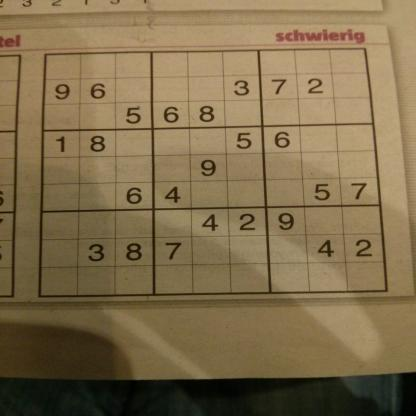sudoku: (30, 45, 392, 303)
